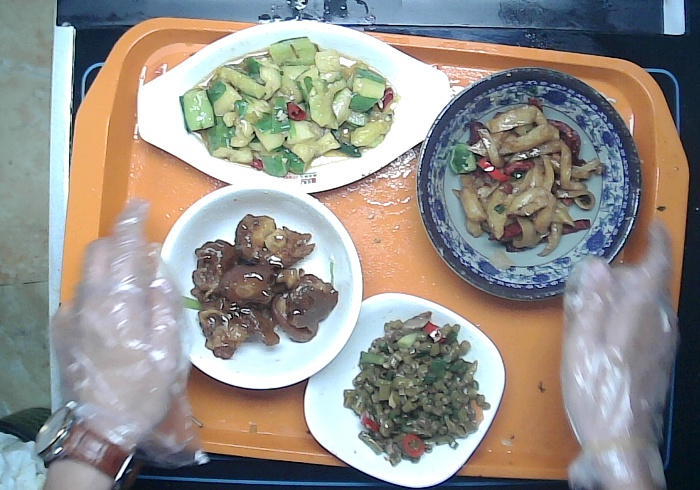ZNLD-Qing_Hua_Wan: (414, 64, 645, 302)
ZNLD-Si_Fang_Wan: (302, 290, 509, 490)
ZNLD-Tang_Wan: (153, 181, 365, 391)
ZNLD-Yu_Pan: (135, 18, 452, 194)
